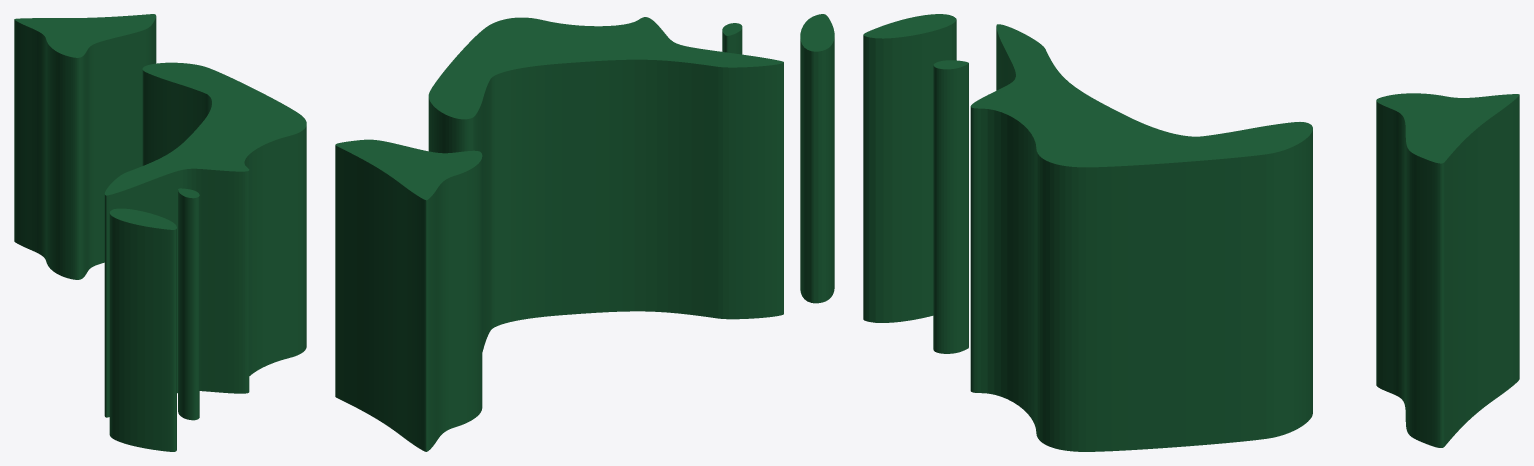
3 views of the same model, side by side, from view 1: azimuth 30°, elevation 25°; view 2: azimuth 150°, elevation 25°; view 3: azimuth 270°, elevation 25° (orthographic). The views are drawn at different scales.
Parts seen in each view (by area): view 1: Curve.043_path4268; view 2: Curve.043_path4268; view 3: Curve.043_path4268.
Part boxes in pixels (x1=…): Curve.043_path4268: x1=14, y1=14, x2=306, y2=451; Curve.043_path4268: x1=335, y1=14, x2=834, y2=451; Curve.043_path4268: x1=863, y1=14, x2=1519, y2=451.
Bounding box in the file's own units: 0.1156 × 0.1 × 0.209.
